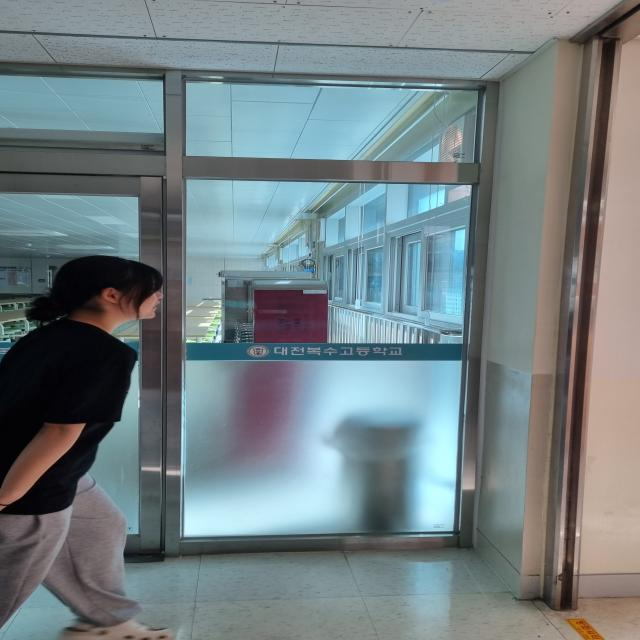logo: (244, 344, 272, 358)
